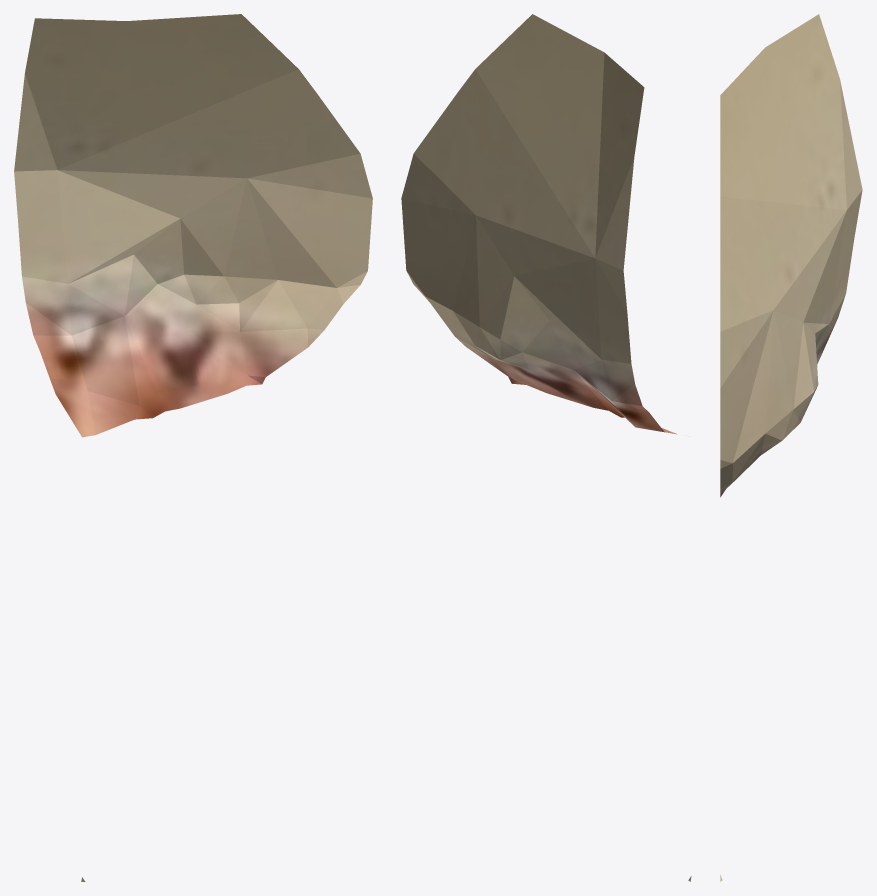
3 views of the same model, side by side, from view 1: azimuth 30°, elevation 25°; view 2: azimuth 150°, elevation 25°; view 3: azimuth 270°, elevation 25° (orthographic). The views are drawn at different scales.
Size of the model in its own units: 0.614 by 1.67 by 0.2491.
1 material, 1 textured.
